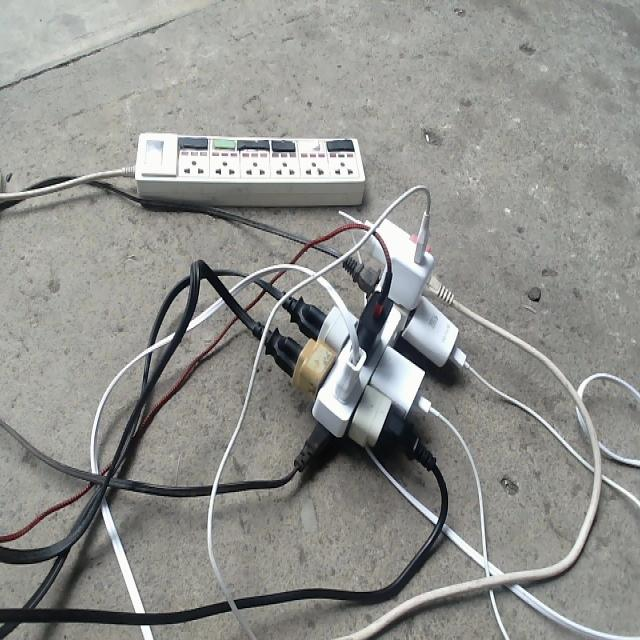-: (248, 204, 467, 475)
